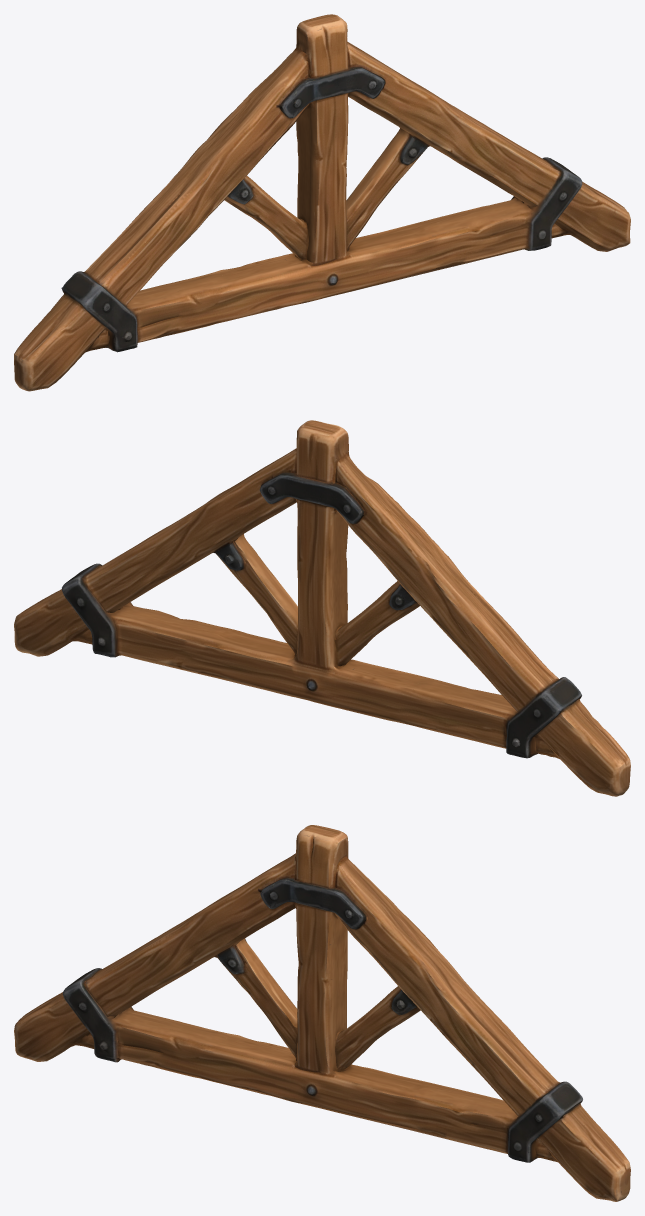
Rendered from hall_roof_truss.glb.
The picture shows the model from 3 angles, top to bottom: view 1: azimuth 30°, elevation 25°; view 2: azimuth 150°, elevation 25°; view 3: azimuth 330°, elevation 25°; orthographic projection.
Visible parts, largest first — view 1: Mesh_0; view 2: Mesh_0; view 3: Mesh_0.
Part boxes in pixels (x1,y1,x2,y2): Mesh_0: (14, 14, 630, 391); Mesh_0: (14, 420, 630, 796); Mesh_0: (14, 825, 630, 1201).
Bounding box in the file's own units: 1.9 × 0.8853 × 0.1516.
Materials: 1 (1 with a texture image).
